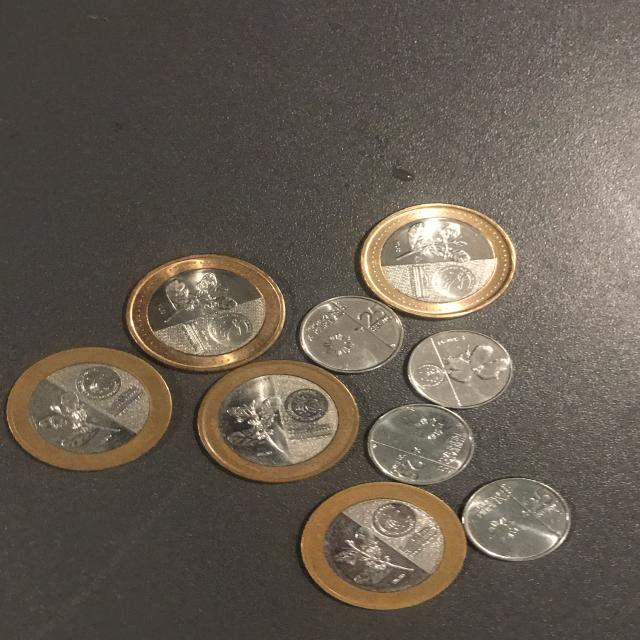20_New_Back: (224, 376, 295, 465), (28, 389, 124, 451), (329, 520, 407, 592), (381, 214, 481, 270), (148, 269, 242, 325)
25Cent_New_Back: (442, 337, 512, 390)
25Cent_New_Front: (382, 448, 435, 487), (516, 482, 563, 523), (352, 300, 395, 336)
